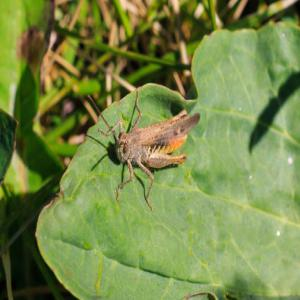locust: (84, 87, 207, 189)
